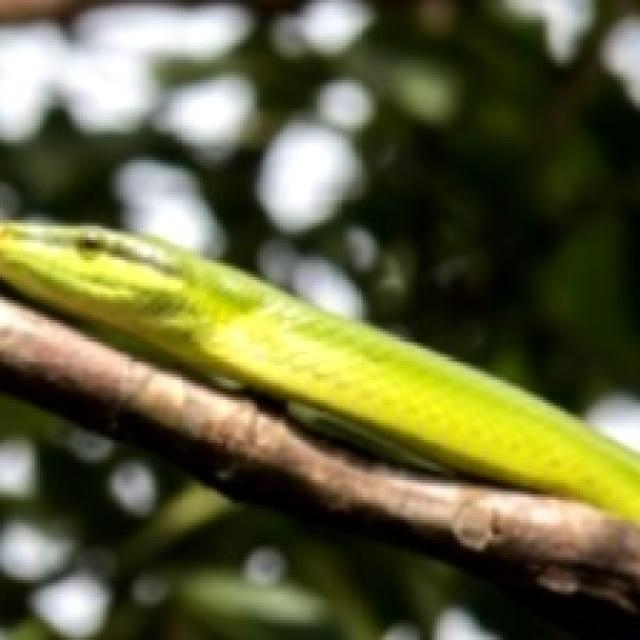red-tailed green ratsnake: (0, 223, 640, 524)
